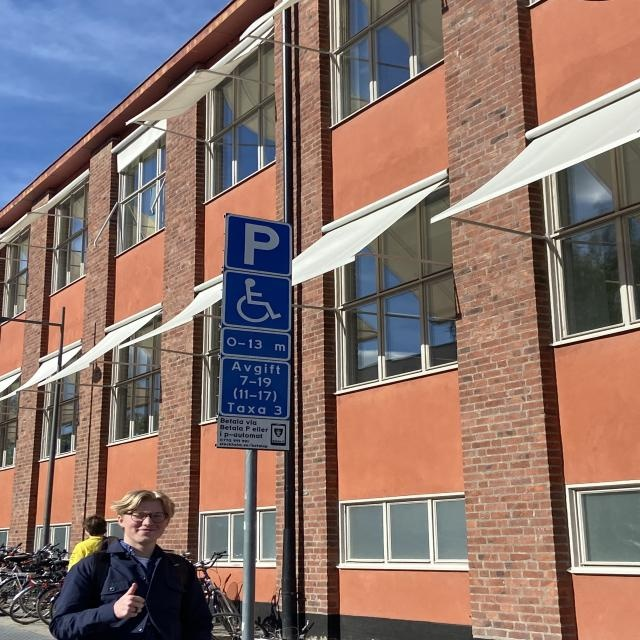P-skylt: (222, 214, 290, 276)
